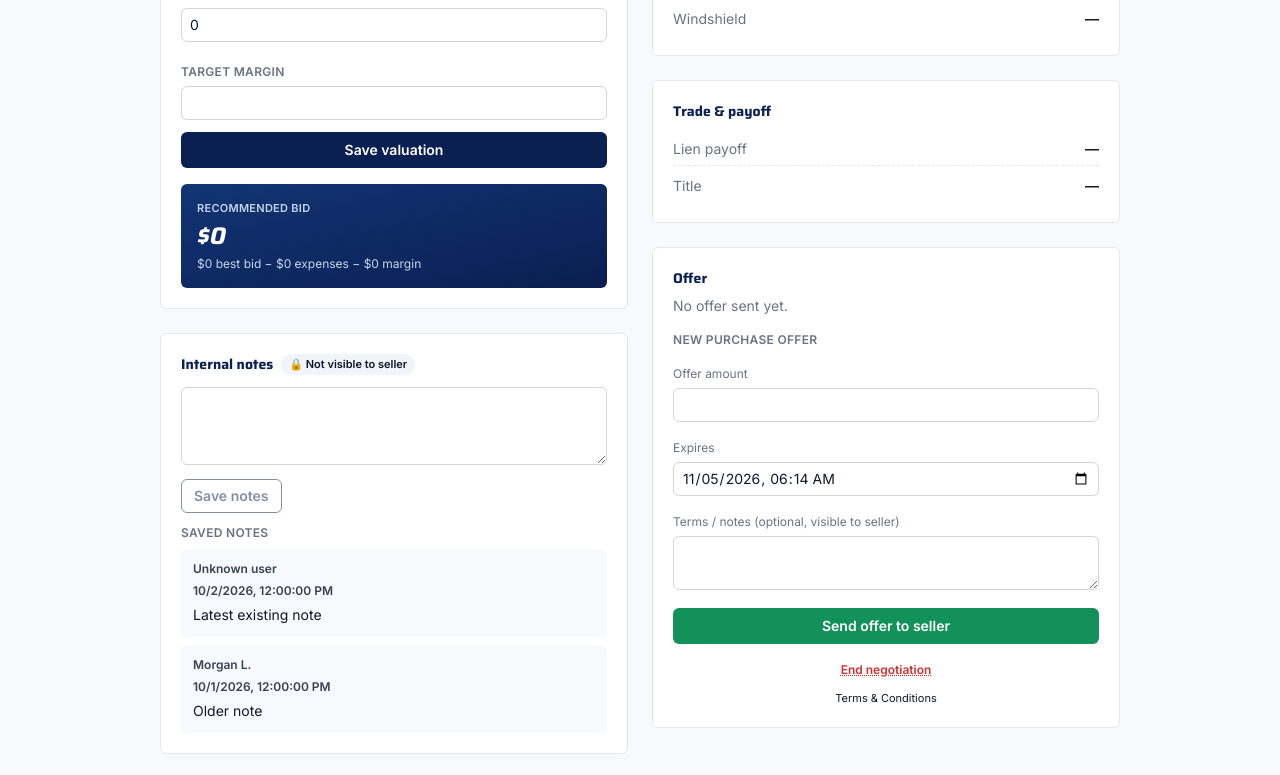
Test: SubmissionDetail internal notes › shows note history newest first below the save button and appends on success
(page scrolled)
Expected: the text "Latest existing note" is shown, left=193, top=606, right=322, bottom=622
Expected: the text "Older note" is shown, left=193, top=702, right=262, bottom=718
Type "New saved note" into the text box named "Internal notes" at (394, 426), box left=181, top=386, right=607, bottom=464
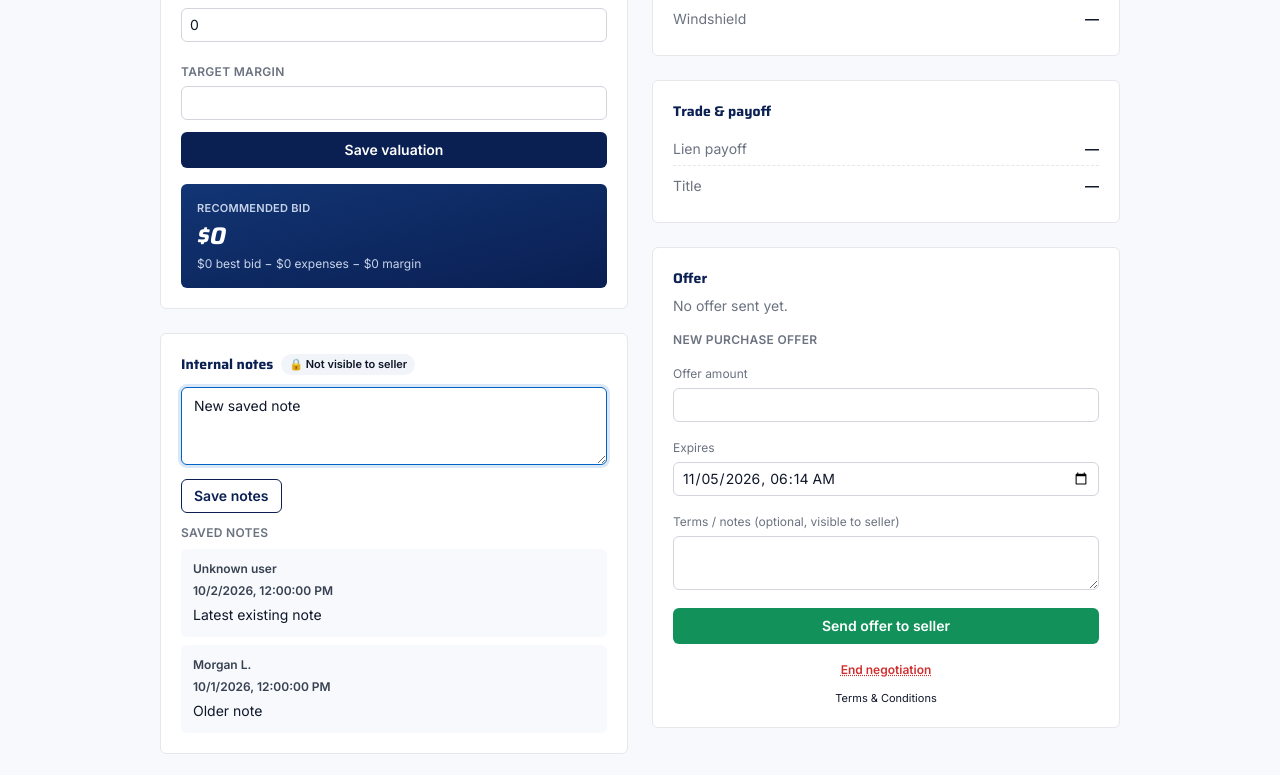
Click the button "Save notes" at (231, 496), box left=181, top=478, right=282, bottom=512
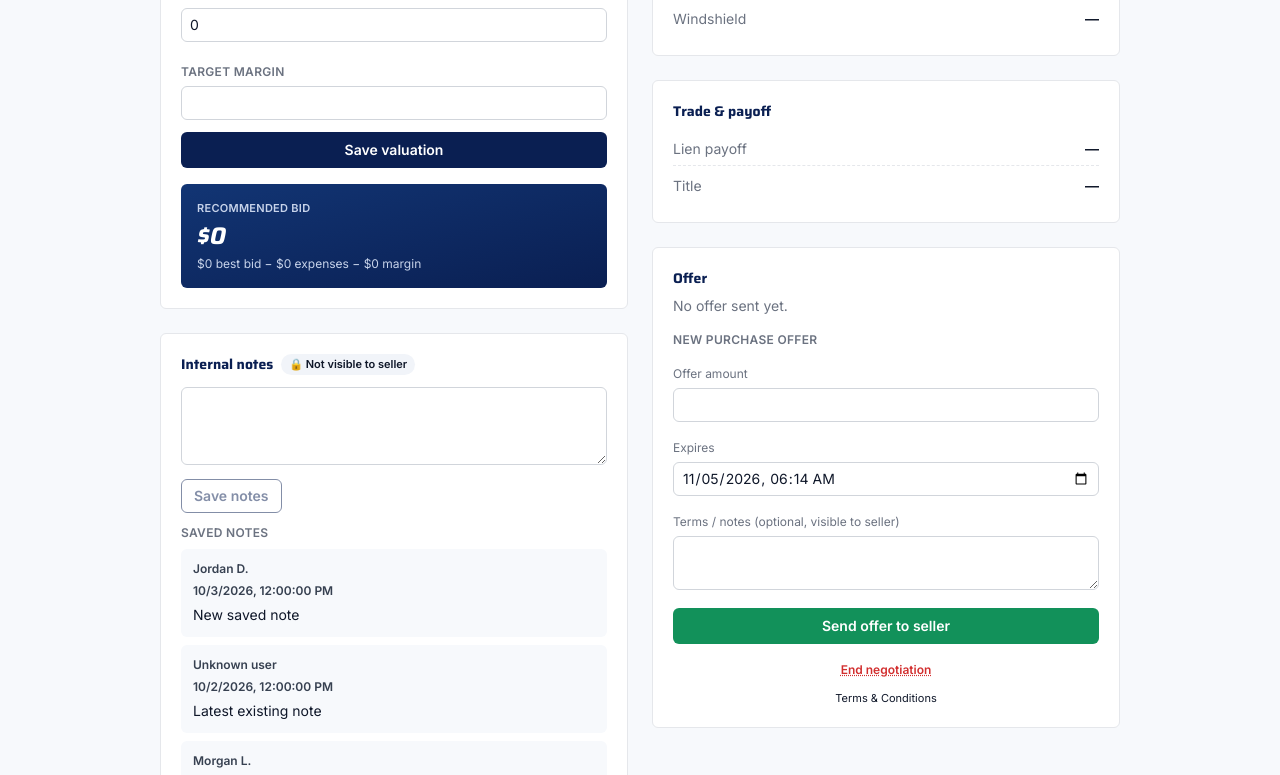
Expected: the text "New saved note" is shown, left=193, top=606, right=299, bottom=622
Expected: the text "Jordan D." is shown, left=193, top=560, right=248, bottom=576
